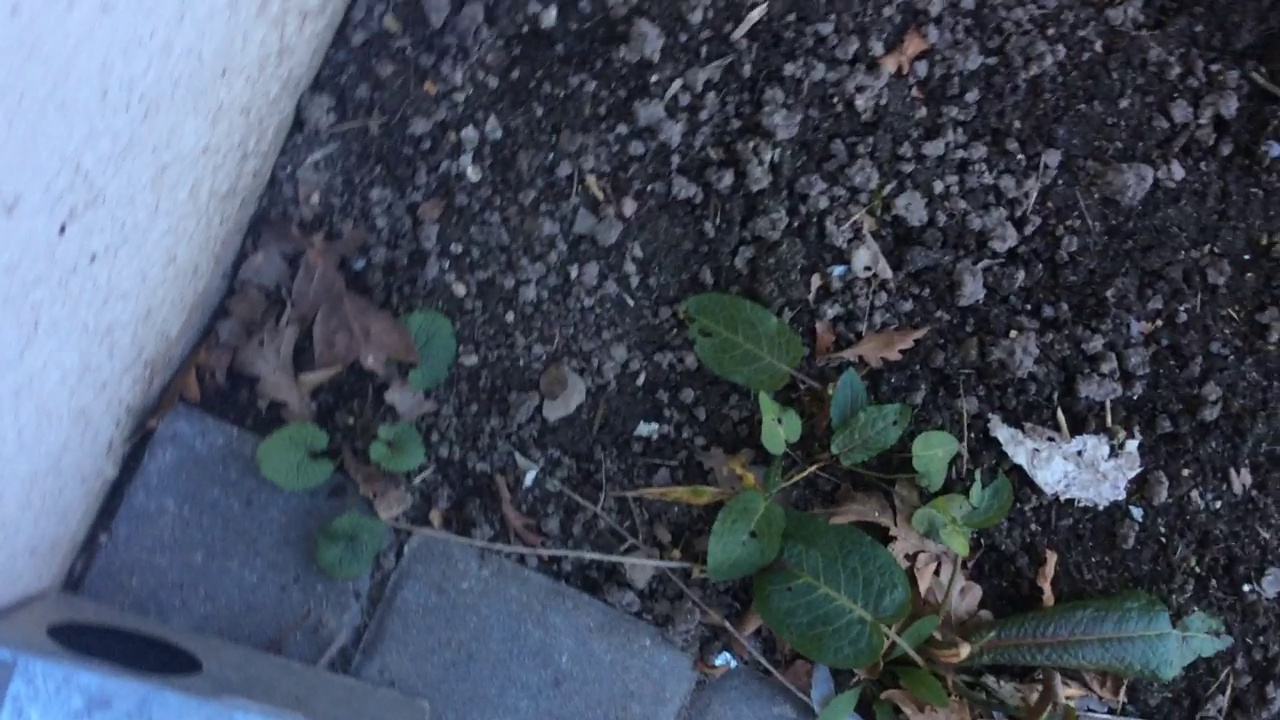rumex: (642, 282, 1219, 711)
